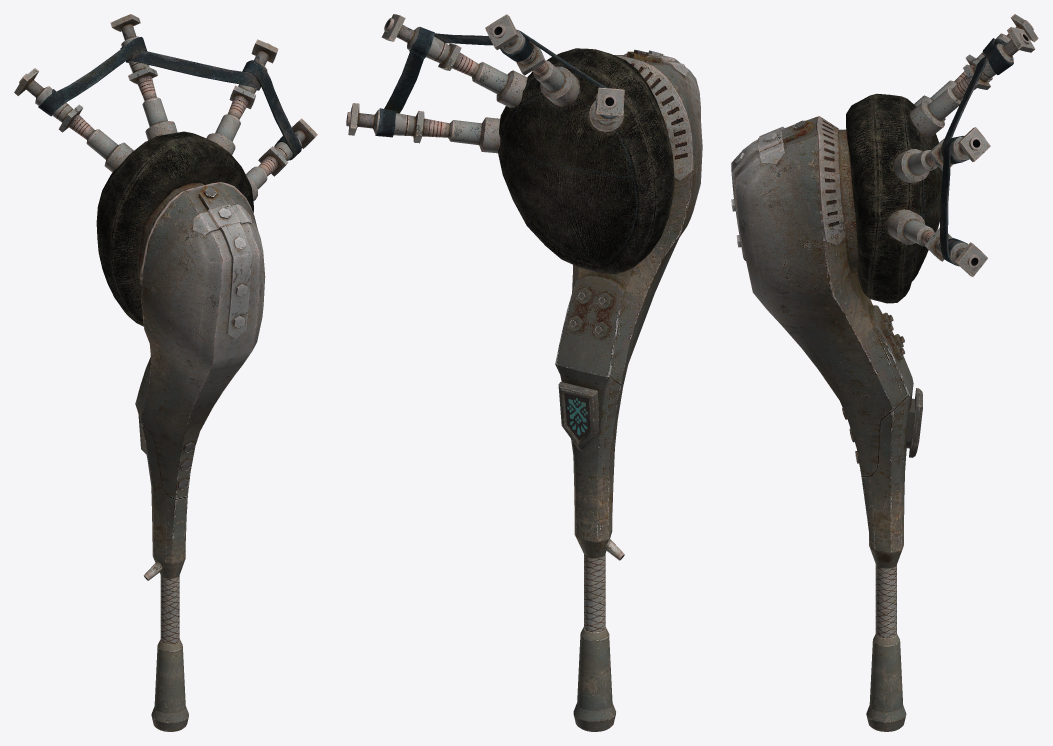
Rendered from bs_hue001.obj.
3 renders of one model, left to right at view 1: azimuth 30°, elevation 25°; view 2: azimuth 150°, elevation 25°; view 3: azimuth 270°, elevation 25°, orthographic. The views are drawn at different scales.
Parts seen in each view (by area): view 1: bs_hue001_001_LOD_1, bs_hue001_002_LOD_1, bs_hue001_000_LOD_1; view 2: bs_hue001_001_LOD_1, bs_hue001_000_LOD_1, bs_hue001_002_LOD_1; view 3: bs_hue001_001_LOD_1, bs_hue001_000_LOD_1, bs_hue001_002_LOD_1.
Boxes of the visible parts, x1,y1,x2,y2 form: bs_hue001_001_LOD_1: (135,182,265,731); bs_hue001_002_LOD_1: (14,14,317,201); bs_hue001_000_LOD_1: (96,131,253,326); bs_hue001_001_LOD_1: (555,49,702,731); bs_hue001_000_LOD_1: (498,48,674,274); bs_hue001_002_LOD_1: (348,14,624,153); bs_hue001_001_LOD_1: (731,116,922,731); bs_hue001_000_LOD_1: (846,93,942,303); bs_hue001_002_LOD_1: (886,14,1038,276).
Bounding box in the file's own units: 130 × 304 × 120.
